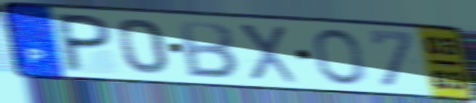0: (114, 17, 173, 77)
7: (367, 27, 416, 90)
B: (177, 19, 241, 81)
O: (311, 27, 369, 87)
P: (56, 11, 115, 74)
X: (235, 22, 301, 86)
